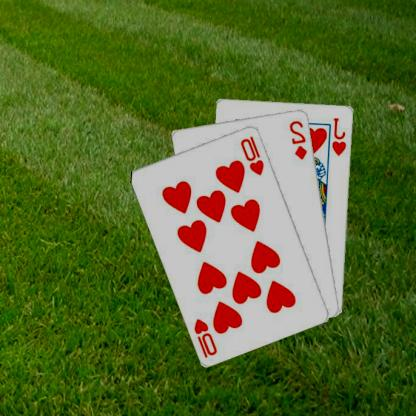10H: (240, 134, 268, 176), (193, 316, 221, 358)
2D: (289, 118, 310, 160)
JH: (332, 116, 349, 156)
